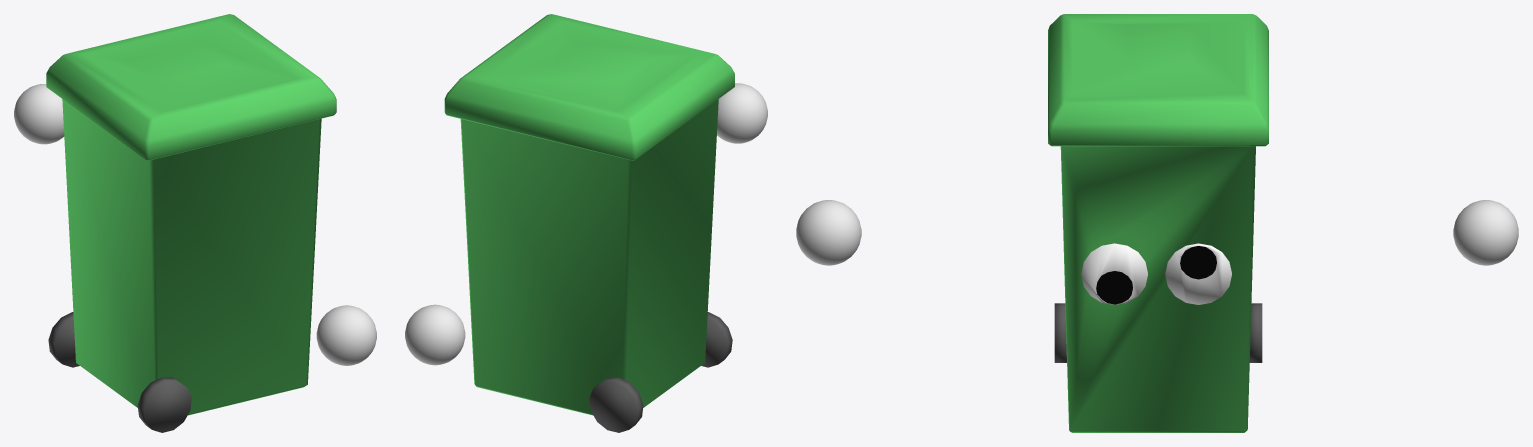
File: TrashTagPlayerModel.fbx
3 views of the same model, side by side, from view 1: azimuth 30°, elevation 25°; view 2: azimuth 150°, elevation 25°; view 3: azimuth 270°, elevation 25° (orthographic). The views are drawn at different scales.
Visible parts, largest first — view 1: mainBody, rightHand, leftHand, rightWheel, leftWheel; view 2: mainBody, leftHand, rightHand, leftWheel, rightWheel; view 3: mainBody, leftHand, rightHand, leftEye, rightEye, leftWheel, rightWheel.
Boxes of the visible parts, left/top/right/bottom form: mainBody: left=46, top=14, right=336, bottom=415; rightHand: left=316, top=305, right=376, bottom=365; leftHand: left=14, top=84, right=64, bottom=144; rightWheel: left=137, top=377, right=191, bottom=432; leftWheel: left=48, top=312, right=79, bottom=367; mainBody: left=444, top=14, right=734, bottom=415; leftHand: left=405, top=304, right=465, bottom=365; rightHand: left=717, top=83, right=767, bottom=143; leftWheel: left=589, top=377, right=643, bottom=432; rightWheel: left=701, top=312, right=732, bottom=367; mainBody: left=1048, top=14, right=1268, bottom=432; leftHand: left=1453, top=200, right=1518, bottom=265; rightHand: left=796, top=200, right=861, bottom=265; leftEye: left=1165, top=243, right=1231, bottom=304; rightEye: left=1081, top=243, right=1147, bottom=304; leftWheel: left=1249, top=303, right=1262, bottom=362; rightWheel: left=1054, top=303, right=1066, bottom=362.
Size of the model in its own units: 366 by 583 by 1099.
